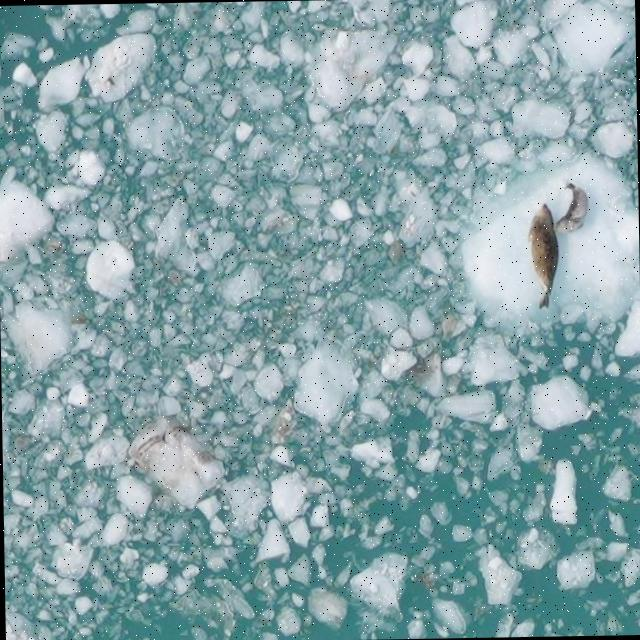seal: (525, 202, 558, 309), (553, 182, 588, 233)
